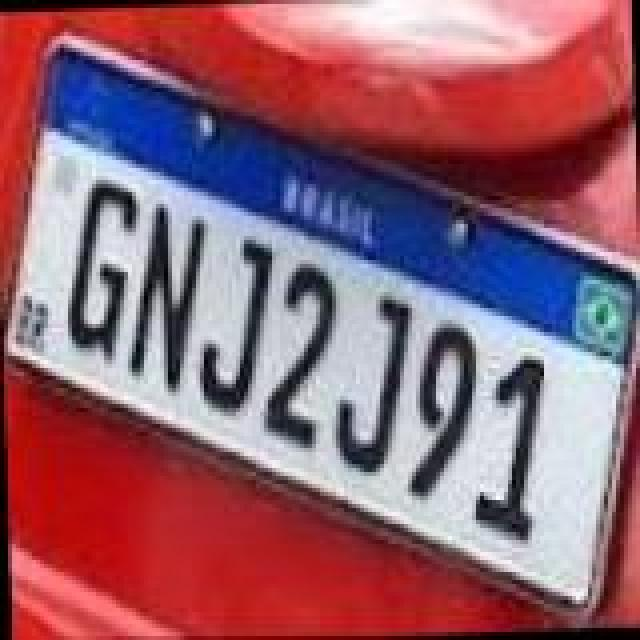1: (462, 350, 554, 546)
2: (254, 256, 342, 452)
9: (396, 318, 484, 502)
G: (58, 174, 146, 362)
J: (190, 228, 282, 412), (324, 288, 416, 472)
N: (122, 204, 214, 400)
